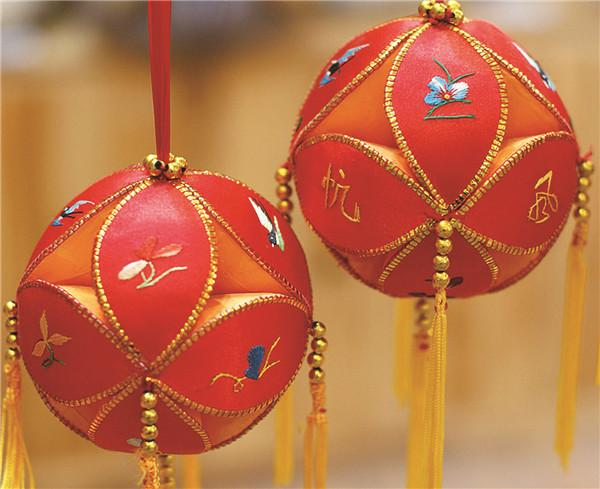xiuqiu: (275, 1, 600, 318), (8, 165, 314, 463)
